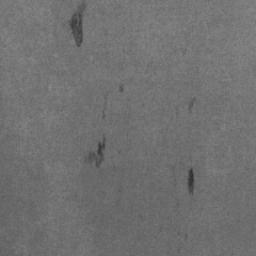Iron scale compression: (70, 0, 86, 48), (88, 135, 106, 168), (186, 168, 195, 196), (118, 83, 124, 94)
